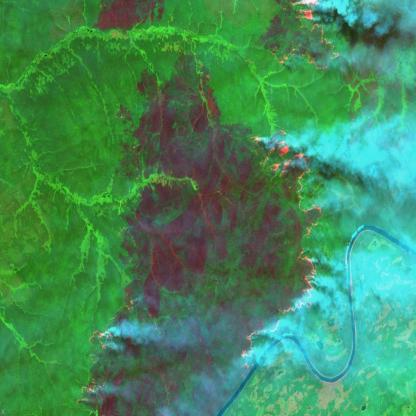fire: (238, 123, 326, 373), (74, 293, 138, 416), (269, 0, 344, 82), (112, 95, 150, 189)
